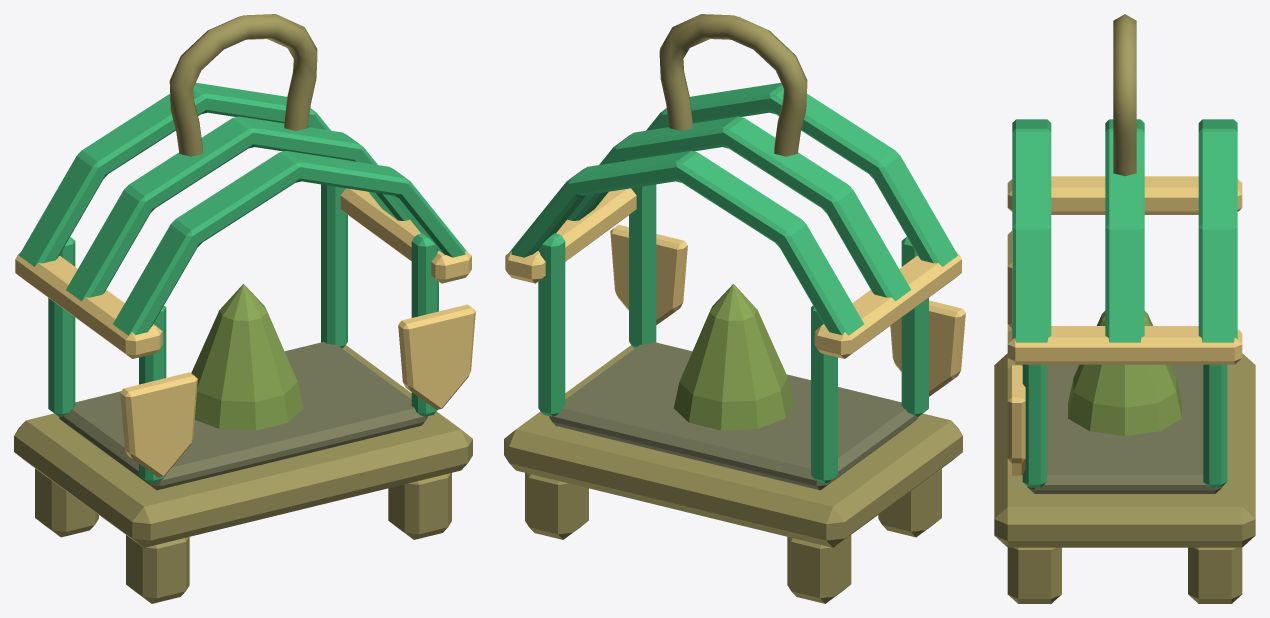
Rendered from guard_incense.obj.
3 views of the same model, side by side, from view 1: azimuth 30°, elevation 25°; view 2: azimuth 150°, elevation 25°; view 3: azimuth 270°, elevation 25° (orthographic).
Parts seen in each view (by area): view 1: A_Tray.001_guard_incense_antique_bronze, A_AshBed.001_guard_incense_ash, C_PiercedLidStrip0.001_guard_incense_jade_enamel, C_PiercedLidStrip1.001_guard_incense_jade_enamel, E_ResinCone.001_guard_incense_pressed_incense, C_PiercedLidStrip2.001_guard_incense_jade_enamel, F_Handle.001_guard_incense_antique_bronze, D_ShieldClasp-1.001_guard_incense_edge, D_ShieldClasp1.001_guard_incense_edge, C_LidSeat-1.001_guard_incense_edge, B_Corner1_1.001_guard_incense_jade_enamel, B_Foot-1_-1.001_guard_incense_antique_bronze (+6 smaller); view 2: A_Tray.001_guard_incense_antique_bronze, A_AshBed.001_guard_incense_ash, C_PiercedLidStrip2.001_guard_incense_jade_enamel, C_PiercedLidStrip1.001_guard_incense_jade_enamel, E_ResinCone.001_guard_incense_pressed_incense, C_PiercedLidStrip0.001_guard_incense_jade_enamel, F_Handle.001_guard_incense_antique_bronze, B_Corner1_1.001_guard_incense_jade_enamel, C_LidSeat-1.001_guard_incense_edge, B_Corner1_-1.001_guard_incense_jade_enamel, B_Corner-1_1.001_guard_incense_jade_enamel, B_Foot-1_1.001_guard_incense_antique_bronze (+6 smaller); view 3: A_Tray.001_guard_incense_antique_bronze, A_AshBed.001_guard_incense_ash, C_PiercedLidStrip0.001_guard_incense_jade_enamel, C_PiercedLidStrip2.001_guard_incense_jade_enamel, C_PiercedLidStrip1.001_guard_incense_jade_enamel, E_ResinCone.001_guard_incense_pressed_incense, C_LidSeat1.001_guard_incense_edge, C_LidSeat-1.001_guard_incense_edge, F_Handle.001_guard_incense_antique_bronze, B_Corner1_1.001_guard_incense_jade_enamel, B_Foot1_-1.001_guard_incense_antique_bronze, B_Foot1_1.001_guard_incense_antique_bronze (+3 smaller).
Part boxes in pixels (left/top/right/bottom): A_Tray.001_guard_incense_antique_bronze: left=14, top=345, right=472, bottom=547; A_AshBed.001_guard_incense_ash: left=59, top=342, right=427, bottom=490; C_PiercedLidStrip0.001_guard_incense_jade_enamel: left=113, top=151, right=466, bottom=335; C_PiercedLidStrip1.001_guard_incense_jade_enamel: left=66, top=116, right=409, bottom=301; E_ResinCone.001_guard_incense_pressed_incense: left=191, top=284, right=303, bottom=430; C_PiercedLidStrip2.001_guard_incense_jade_enamel: left=19, top=82, right=330, bottom=266; F_Handle.001_guard_incense_antique_bronze: left=169, top=14, right=317, bottom=156; D_ShieldClasp-1.001_guard_incense_edge: left=120, top=372, right=197, bottom=477; D_ShieldClasp1.001_guard_incense_edge: left=398, top=304, right=475, bottom=409; C_LidSeat-1.001_guard_incense_edge: left=15, top=252, right=162, bottom=358; B_Corner1_1.001_guard_incense_jade_enamel: left=321, top=184, right=347, bottom=348; B_Foot-1_-1.001_guard_incense_antique_bronze: left=126, top=535, right=189, bottom=603; A_Tray.001_guard_incense_antique_bronze: left=504, top=345, right=962, bottom=547; A_AshBed.001_guard_incense_ash: left=549, top=341, right=917, bottom=490; C_PiercedLidStrip2.001_guard_incense_jade_enamel: left=510, top=150, right=863, bottom=335; C_PiercedLidStrip1.001_guard_incense_jade_enamel: left=567, top=116, right=910, bottom=301; E_ResinCone.001_guard_incense_pressed_incense: left=673, top=284, right=793, bottom=430; C_PiercedLidStrip0.001_guard_incense_jade_enamel: left=646, top=82, right=957, bottom=266; F_Handle.001_guard_incense_antique_bronze: left=659, top=14, right=807, bottom=156; B_Corner1_1.001_guard_incense_jade_enamel: left=538, top=233, right=565, bottom=416; C_LidSeat-1.001_guard_incense_edge: left=814, top=252, right=961, bottom=358; B_Corner1_-1.001_guard_incense_jade_enamel: left=629, top=184, right=656, bottom=348; B_Corner-1_1.001_guard_incense_jade_enamel: left=811, top=305, right=837, bottom=483; B_Foot-1_1.001_guard_incense_antique_bronze: left=787, top=535, right=851, bottom=603; A_Tray.001_guard_incense_antique_bronze: left=994, top=353, right=1255, bottom=547; A_AshBed.001_guard_incense_ash: left=1027, top=364, right=1222, bottom=493; C_PiercedLidStrip0.001_guard_incense_jade_enamel: left=1012, top=119, right=1051, bottom=342; C_PiercedLidStrip2.001_guard_incense_jade_enamel: left=1198, top=119, right=1237, bottom=342; C_PiercedLidStrip1.001_guard_incense_jade_enamel: left=1105, top=119, right=1144, bottom=342; E_ResinCone.001_guard_incense_pressed_incense: left=1068, top=310, right=1181, bottom=435; C_LidSeat1.001_guard_incense_edge: left=1007, top=326, right=1242, bottom=364; C_LidSeat-1.001_guard_incense_edge: left=1007, top=176, right=1242, bottom=214; F_Handle.001_guard_incense_antique_bronze: left=1113, top=14, right=1136, bottom=176; B_Corner1_1.001_guard_incense_jade_enamel: left=1203, top=364, right=1227, bottom=487; B_Foot1_-1.001_guard_incense_antique_bronze: left=1007, top=547, right=1061, bottom=603; B_Foot1_1.001_guard_incense_antique_bronze: left=1188, top=547, right=1242, bottom=603.
Bounding box in the file's own units: 1.34 × 1.87 × 0.87.
